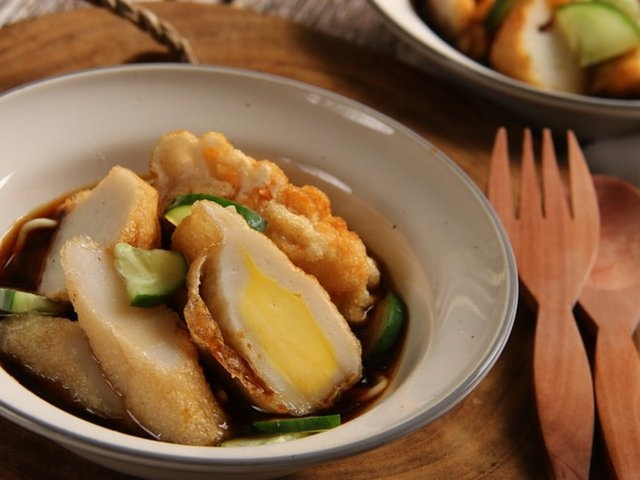pempek: (1, 130, 379, 446)
